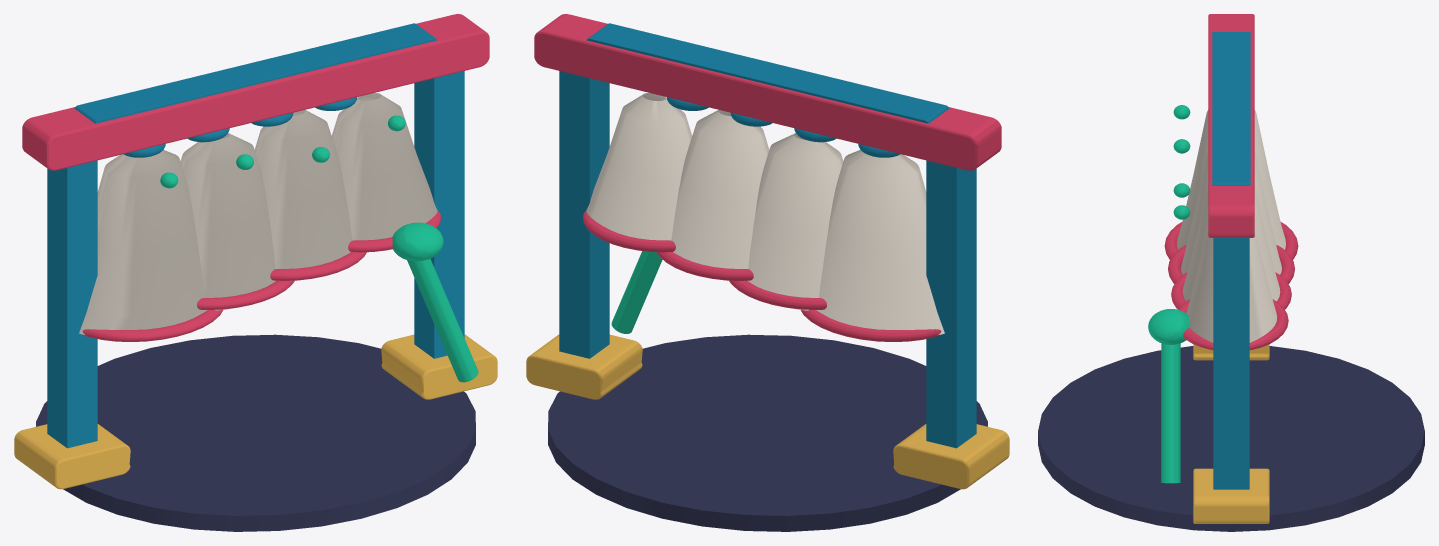
Rendered from 0745_先秦图鉴_编铙.glb.
The picture shows the model from 3 angles, left to right: view 1: azimuth 30°, elevation 25°; view 2: azimuth 150°, elevation 25°; view 3: azimuth 270°, elevation 25°; orthographic projection. The views are drawn at different scales.
Visible parts, largest first — view 1: card_0745; view 2: card_0745; view 3: card_0745.
Part boxes in pixels (left/top/right/bottom): card_0745: left=14, top=14, right=497, bottom=531; card_0745: left=526, top=14, right=1009, bottom=531; card_0745: left=1038, top=14, right=1424, bottom=531.
Size of the model in its own units: 1.26 by 1 by 1.04.
